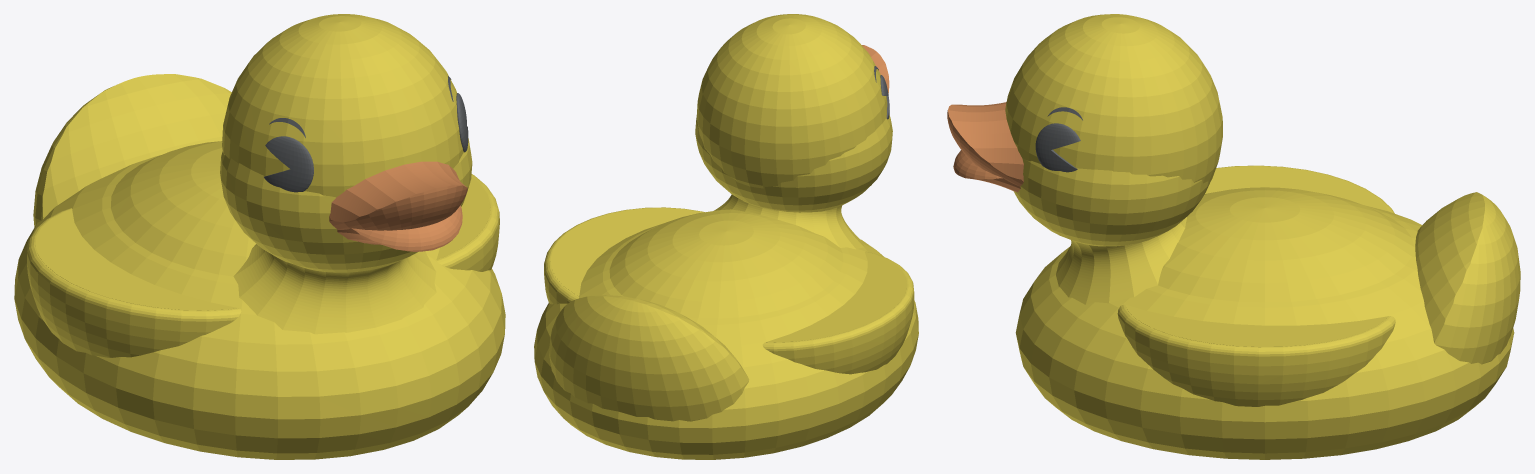
File: Duck.glb
The picture shows the model from 3 angles, left to right: view 1: azimuth 30°, elevation 25°; view 2: azimuth 150°, elevation 25°; view 3: azimuth 270°, elevation 25°; orthographic projection. The views are drawn at different scales.
Visible parts, largest first — view 1: Mesh_Mesh_head_geo.001_lambert2SG.001; view 2: Mesh_Mesh_head_geo.001_lambert2SG.001; view 3: Mesh_Mesh_head_geo.001_lambert2SG.001.
Part boxes in pixels (x1,y1,x2,y2): Mesh_Mesh_head_geo.001_lambert2SG.001: (14,14,505,459); Mesh_Mesh_head_geo.001_lambert2SG.001: (534,14,918,459); Mesh_Mesh_head_geo.001_lambert2SG.001: (947,14,1520,459).
Bounding box in the file's own units: 0.0766 × 0.0678 × 0.0989.
